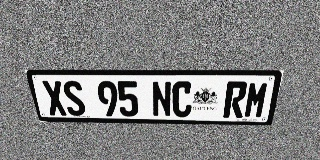5: (117, 81, 139, 117)
9: (96, 81, 120, 116)
C: (172, 81, 193, 117)
M: (243, 82, 270, 118)
N: (151, 81, 172, 117)
R: (223, 81, 248, 118)
S: (61, 81, 87, 116)
X: (41, 81, 68, 116)
